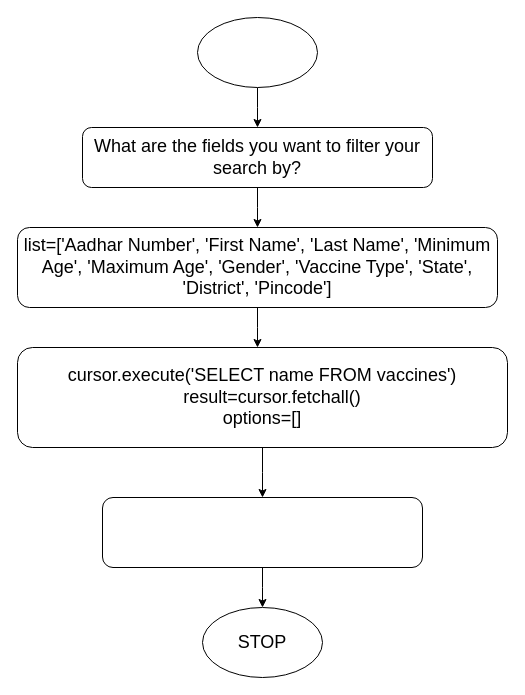
This 525x695 diagram has some shape labels left out. The centre of each missing label's shape, as x and y in pixels:
for item in result: options.append(item[0]): [262,532]
START: [257,52]
